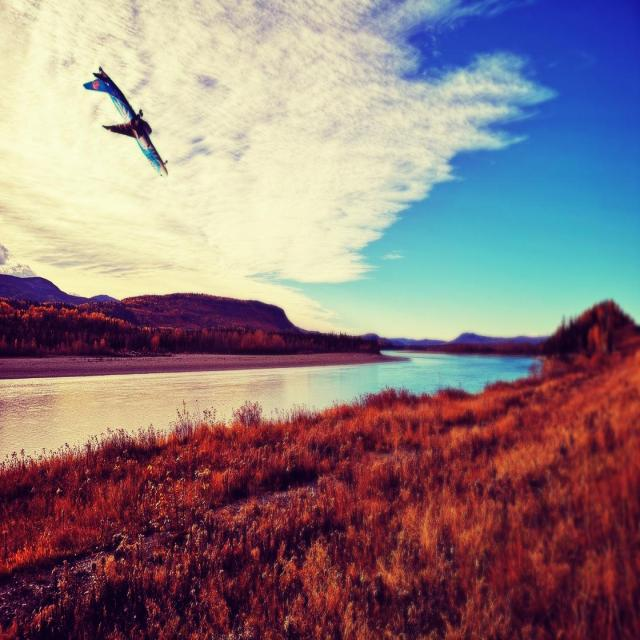airplane: (82, 65, 168, 177)
